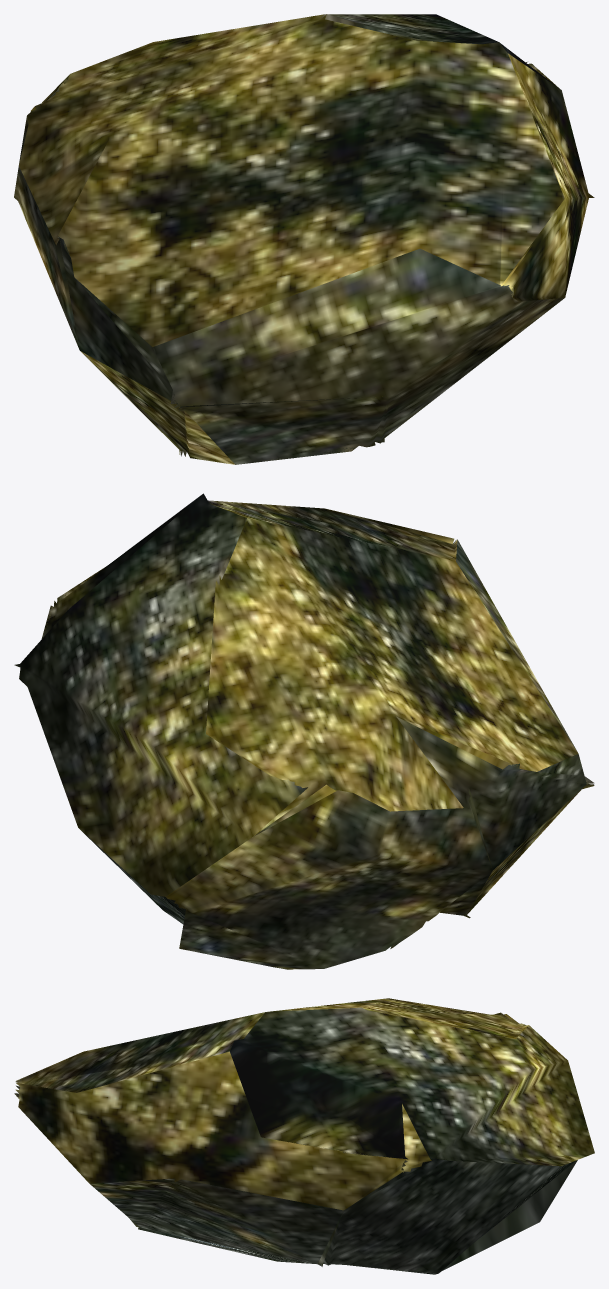
The model's file is med7.glb.
The picture shows the model from 3 angles, top to bottom: view 1: azimuth 30°, elevation 25°; view 2: azimuth 150°, elevation 25°; view 3: azimuth 270°, elevation 25°; orthographic projection. The views are drawn at different scales.
Parts seen in each view (by area): view 1: дом.012; view 2: дом.012; view 3: дом.012.
Part boxes in pixels (x1,y1,x2,y2): дом.012: [14, 14, 594, 464]; дом.012: [14, 493, 594, 969]; дом.012: [14, 998, 594, 1274].
Bounding box in the file's own units: 0.5843 × 0.4321 × 0.7474.
Materials: 1 (1 with a texture image).
